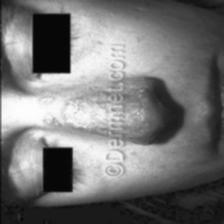Unclassified: (31, 93, 101, 131), (74, 29, 100, 76), (131, 82, 151, 140)
